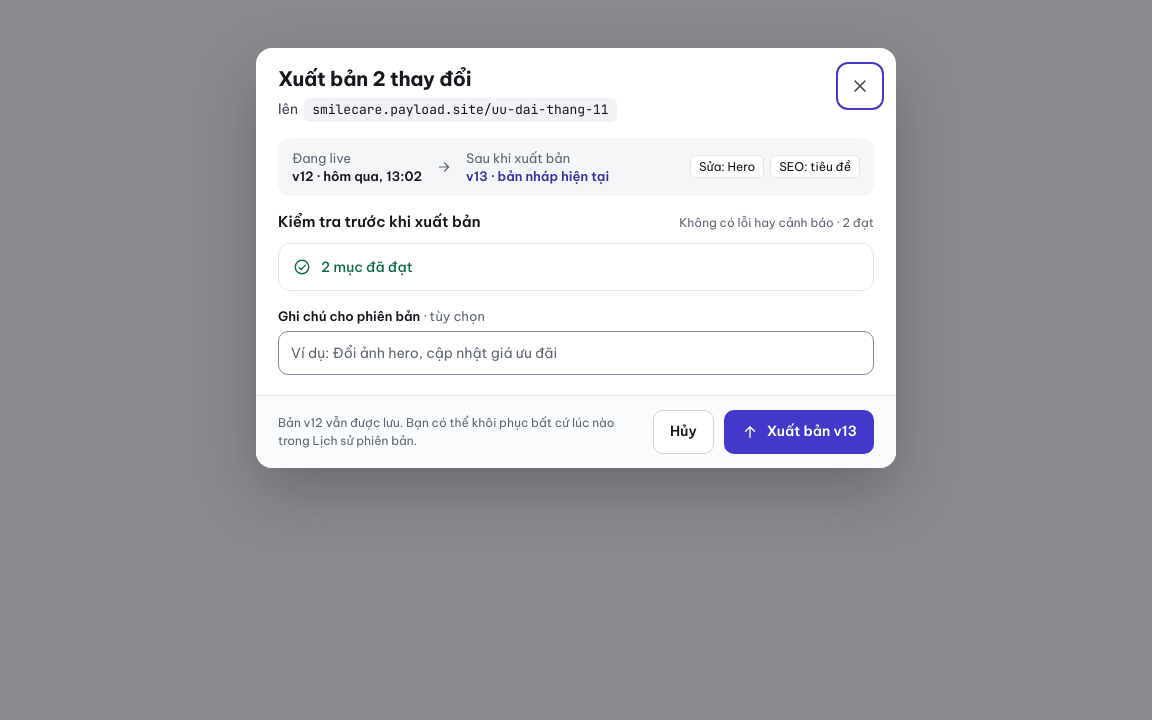
Test case: PublishDialog › reloads the page and checks when the site settings changed during the publish
Expected: the heading "Xuất bản 2 thay đổi" is shown, [278, 66, 472, 91]
Click the button "Xuất bản v13".
click(799, 432)  # box [724, 410, 874, 454]
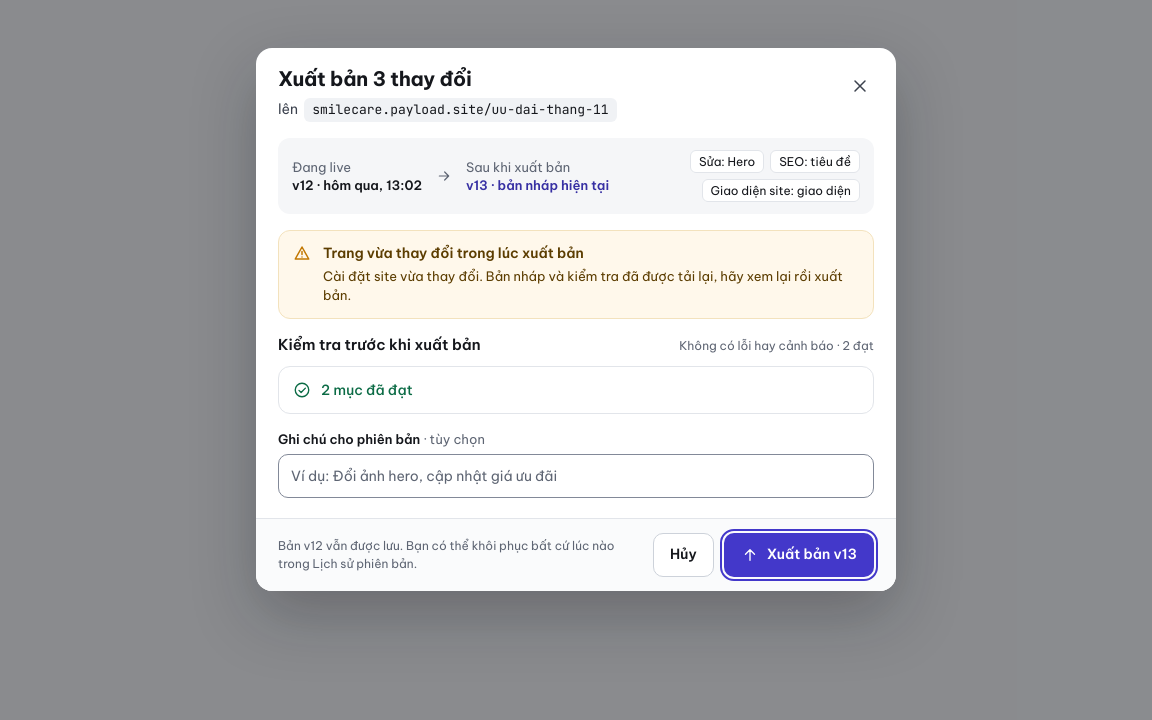
Now the text "Trang vừa thay đổi trong lúc xuất bản" is shown, box [323, 244, 584, 262]
Now the list item "Giao diện site: giao diện" is shown, box [702, 178, 860, 202]
